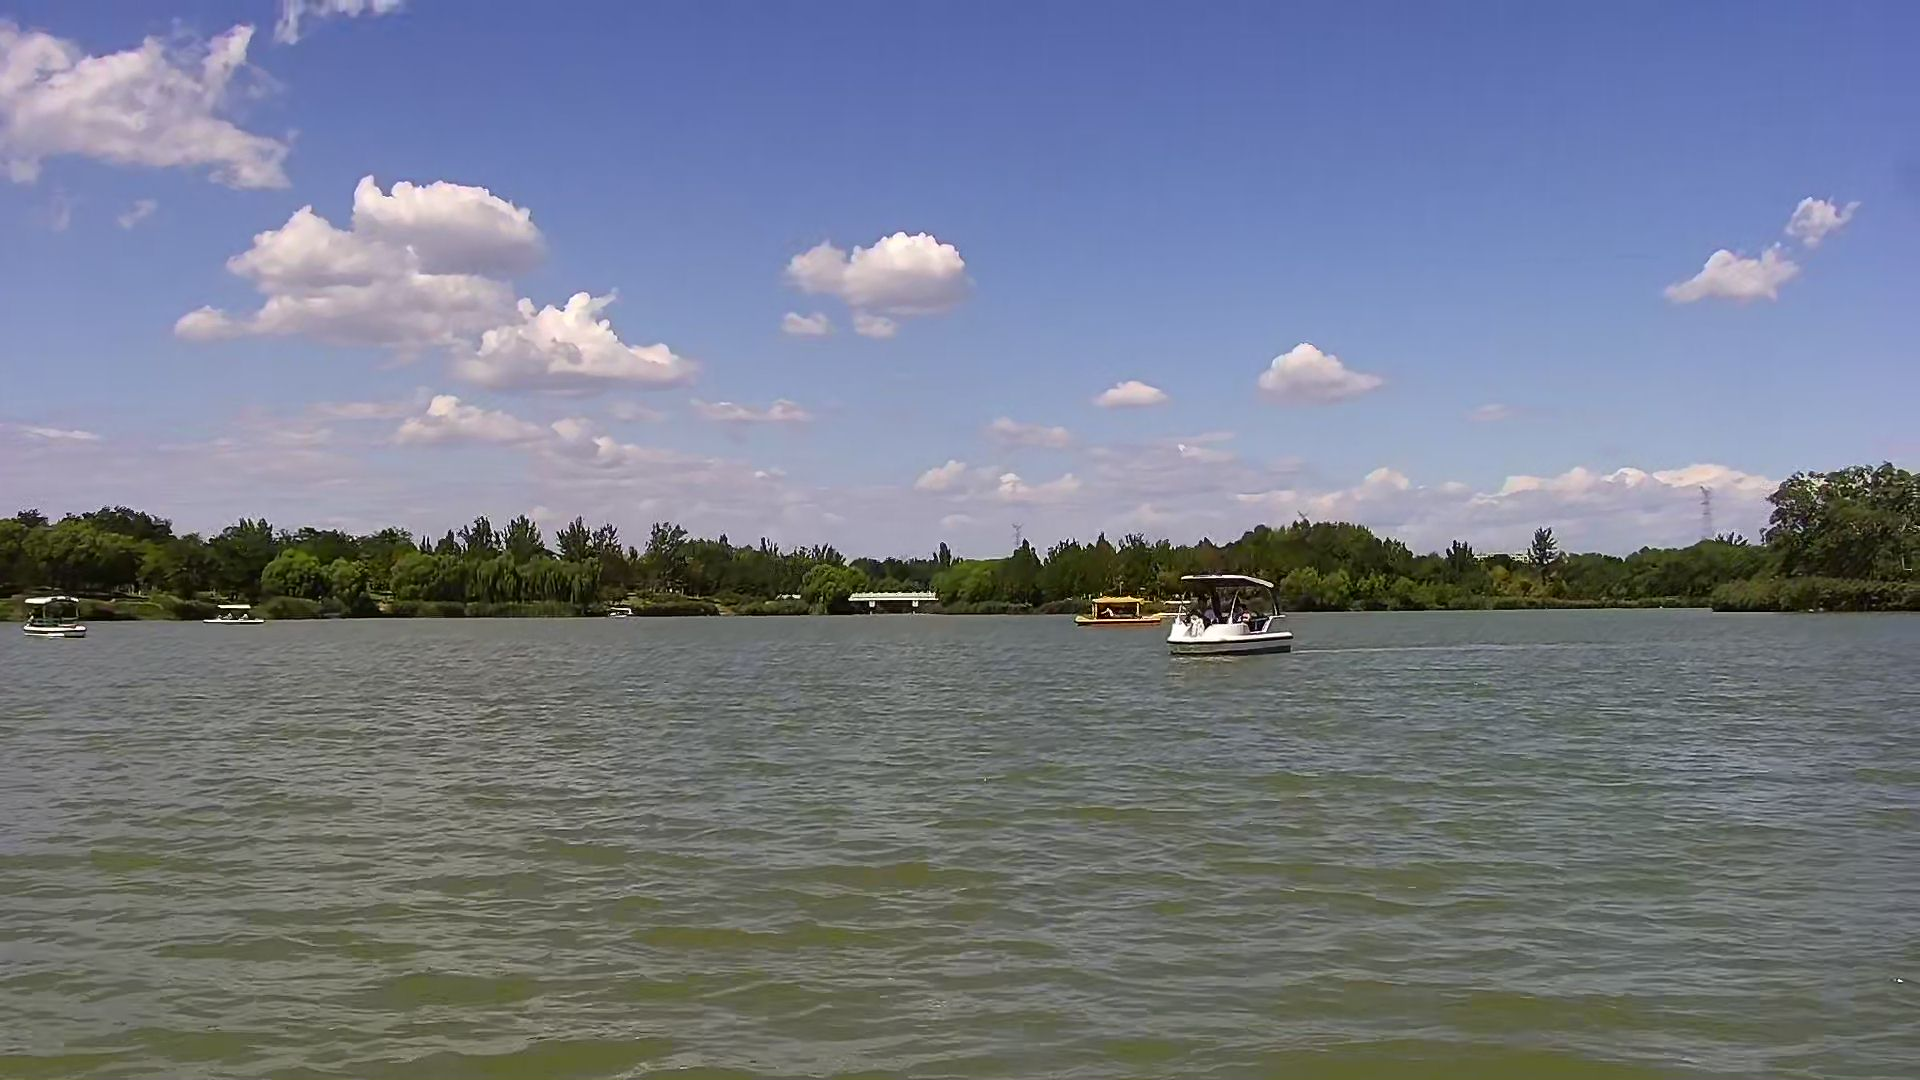boat: (1171, 571, 1292, 654), (22, 593, 82, 637), (1077, 593, 1162, 624), (206, 597, 260, 622)
bridge: (851, 589, 938, 618)
